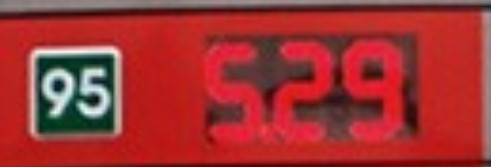digits: (268, 33, 337, 149), (340, 34, 411, 146), (199, 33, 269, 146)
